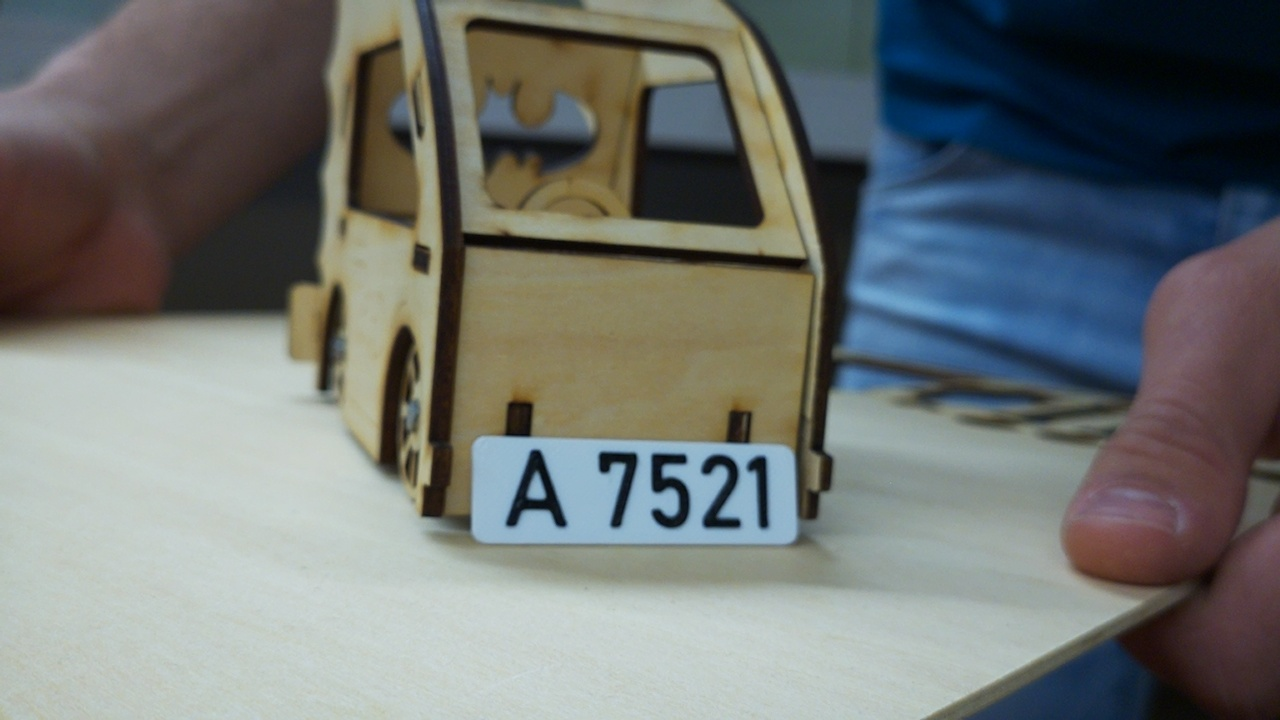license_plate: (467, 432, 801, 549)
